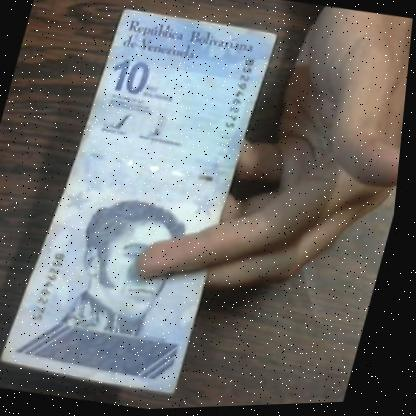ten-front-vef: (2, 1, 279, 406)
